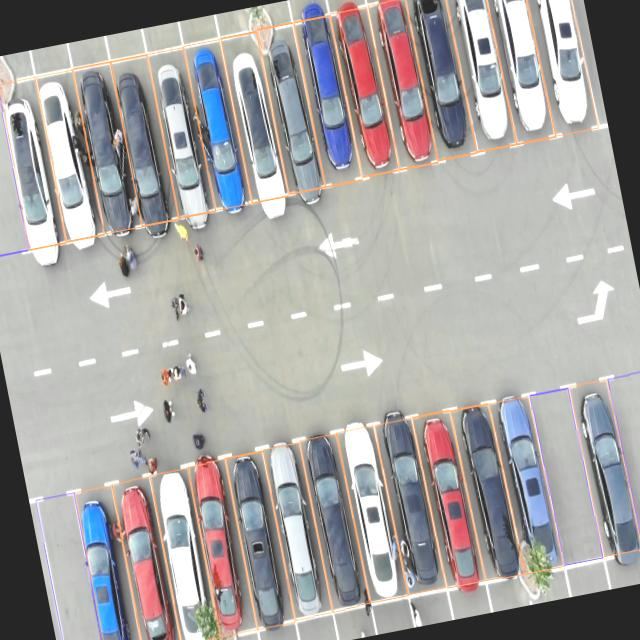car: (372, 413, 448, 592), (334, 422, 409, 602), (260, 439, 335, 618), (490, 394, 565, 572), (450, 401, 526, 576), (184, 457, 258, 636), (413, 409, 486, 587), (569, 379, 640, 561), (180, 38, 256, 208), (149, 461, 221, 640), (327, 5, 402, 176), (68, 62, 142, 232), (366, 0, 442, 165), (298, 431, 368, 610), (224, 449, 294, 627), (106, 476, 181, 640), (32, 67, 102, 241), (255, 23, 325, 193), (146, 46, 214, 218), (410, 0, 478, 167), (518, 0, 600, 138), (0, 79, 65, 252), (444, 0, 519, 148), (71, 485, 142, 640), (296, 15, 359, 184), (487, 0, 557, 152), (114, 61, 178, 223), (225, 36, 286, 201)
free: (528, 386, 606, 570), (36, 494, 106, 640), (606, 369, 640, 552), (0, 86, 27, 254)
